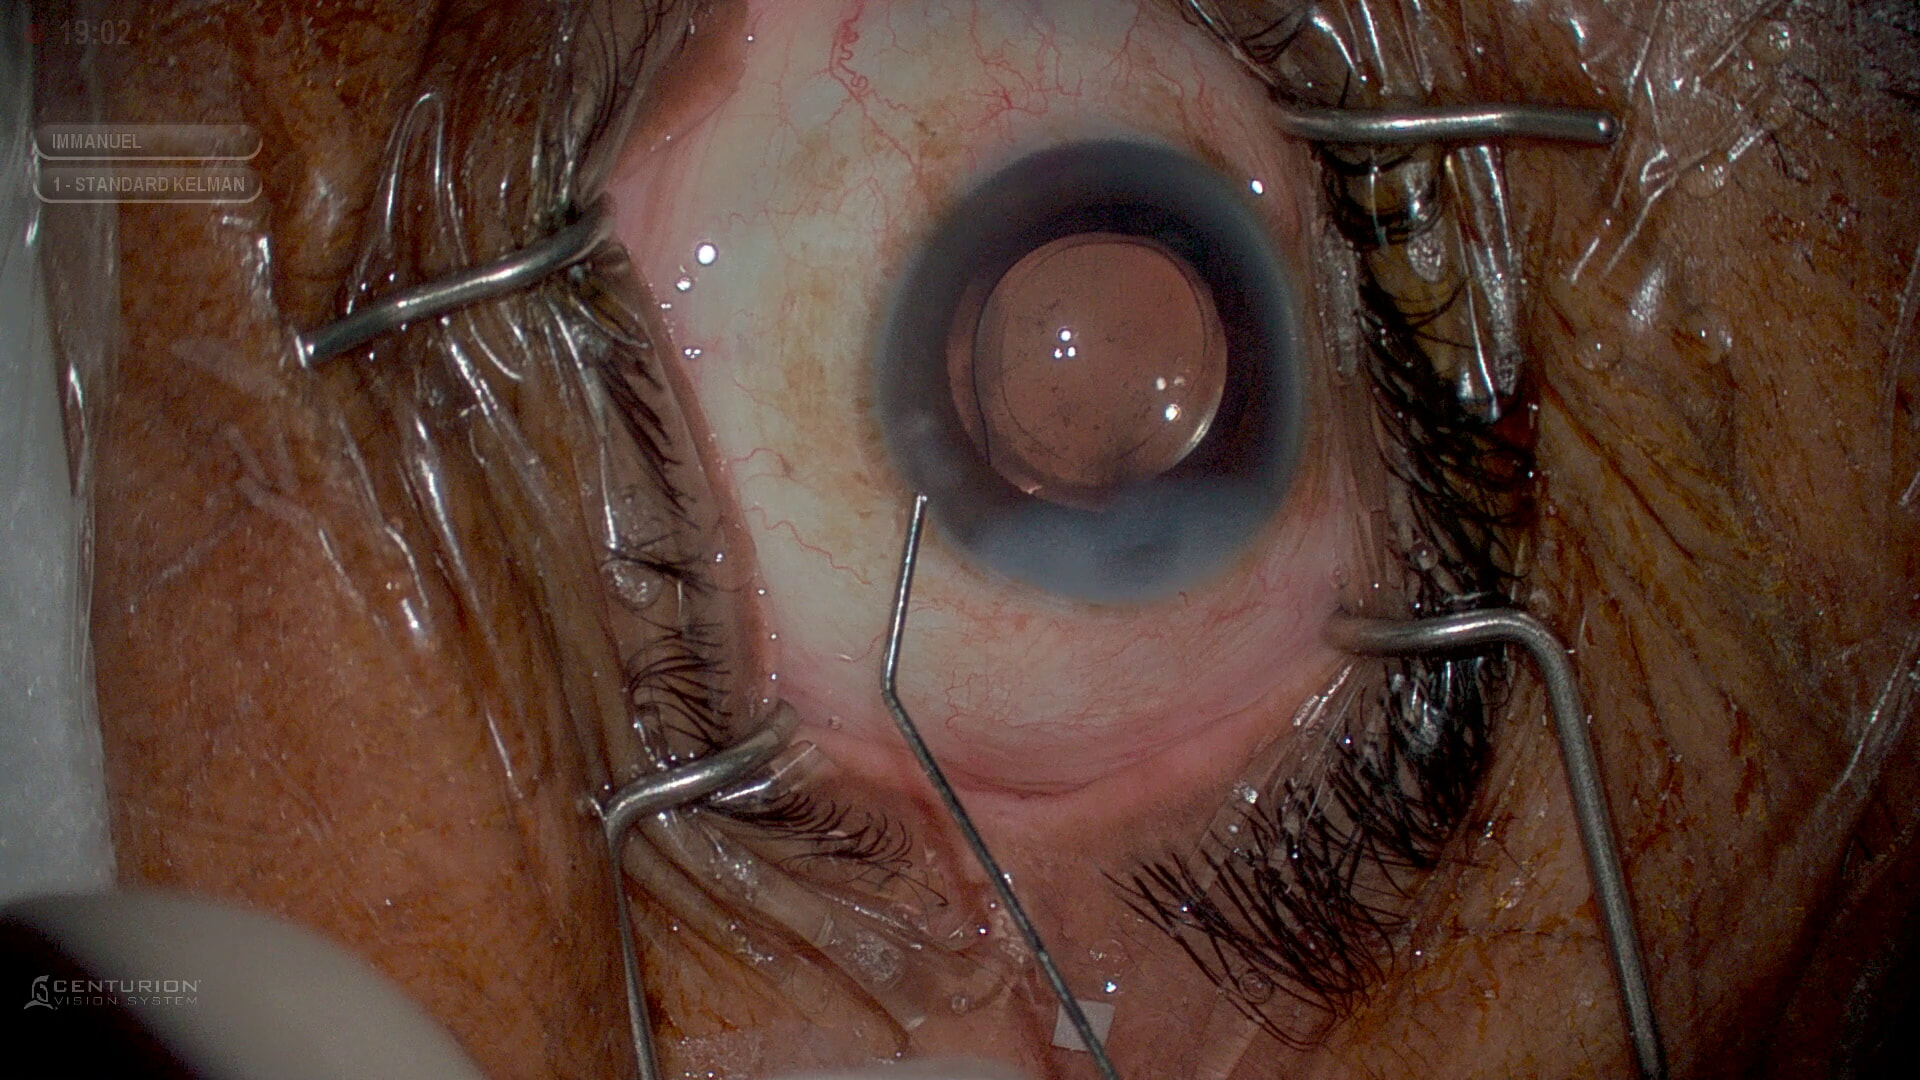iris: (883, 143, 1301, 605)
pupil: (945, 224, 1233, 509)
